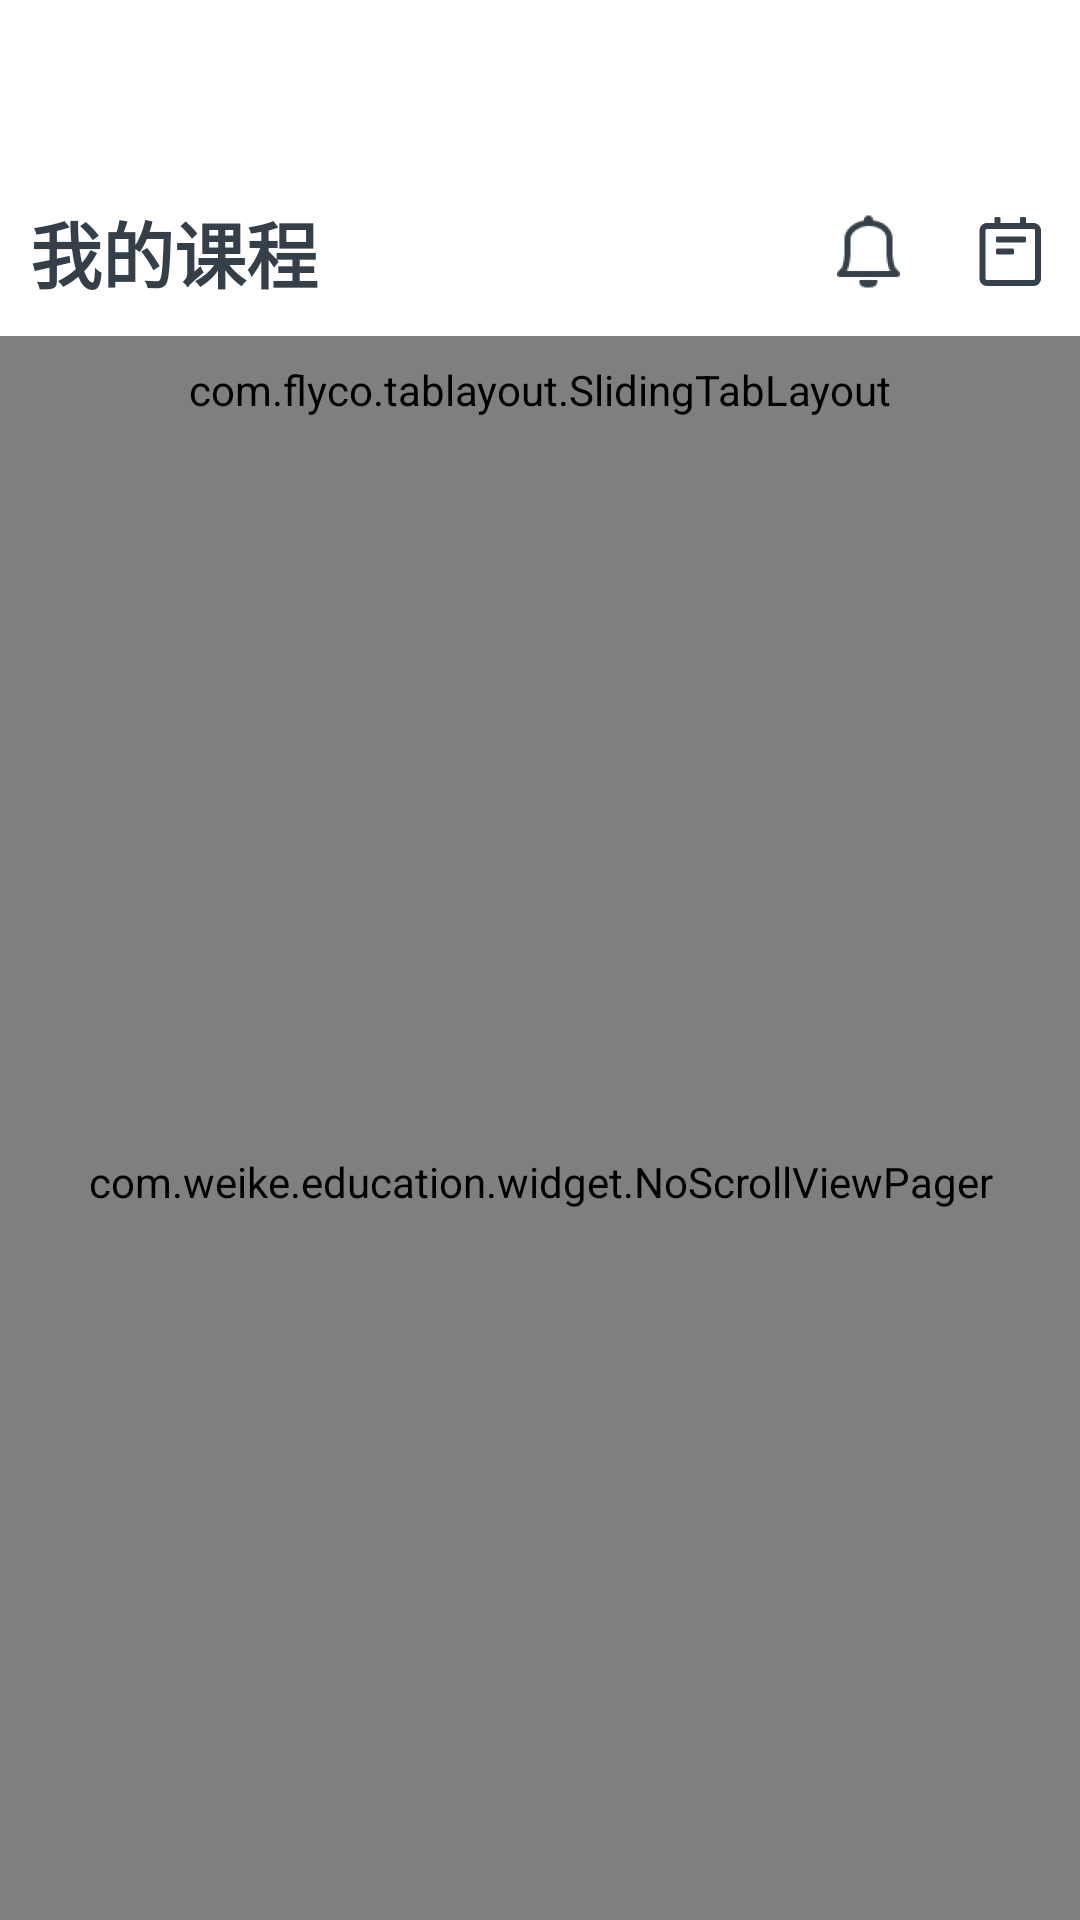

Icons on this 1080 × 1920 Android screen, each with its box as bbox=[x1, y1, x2, y2]:
calendar: bbox=[979, 217, 1041, 286]
